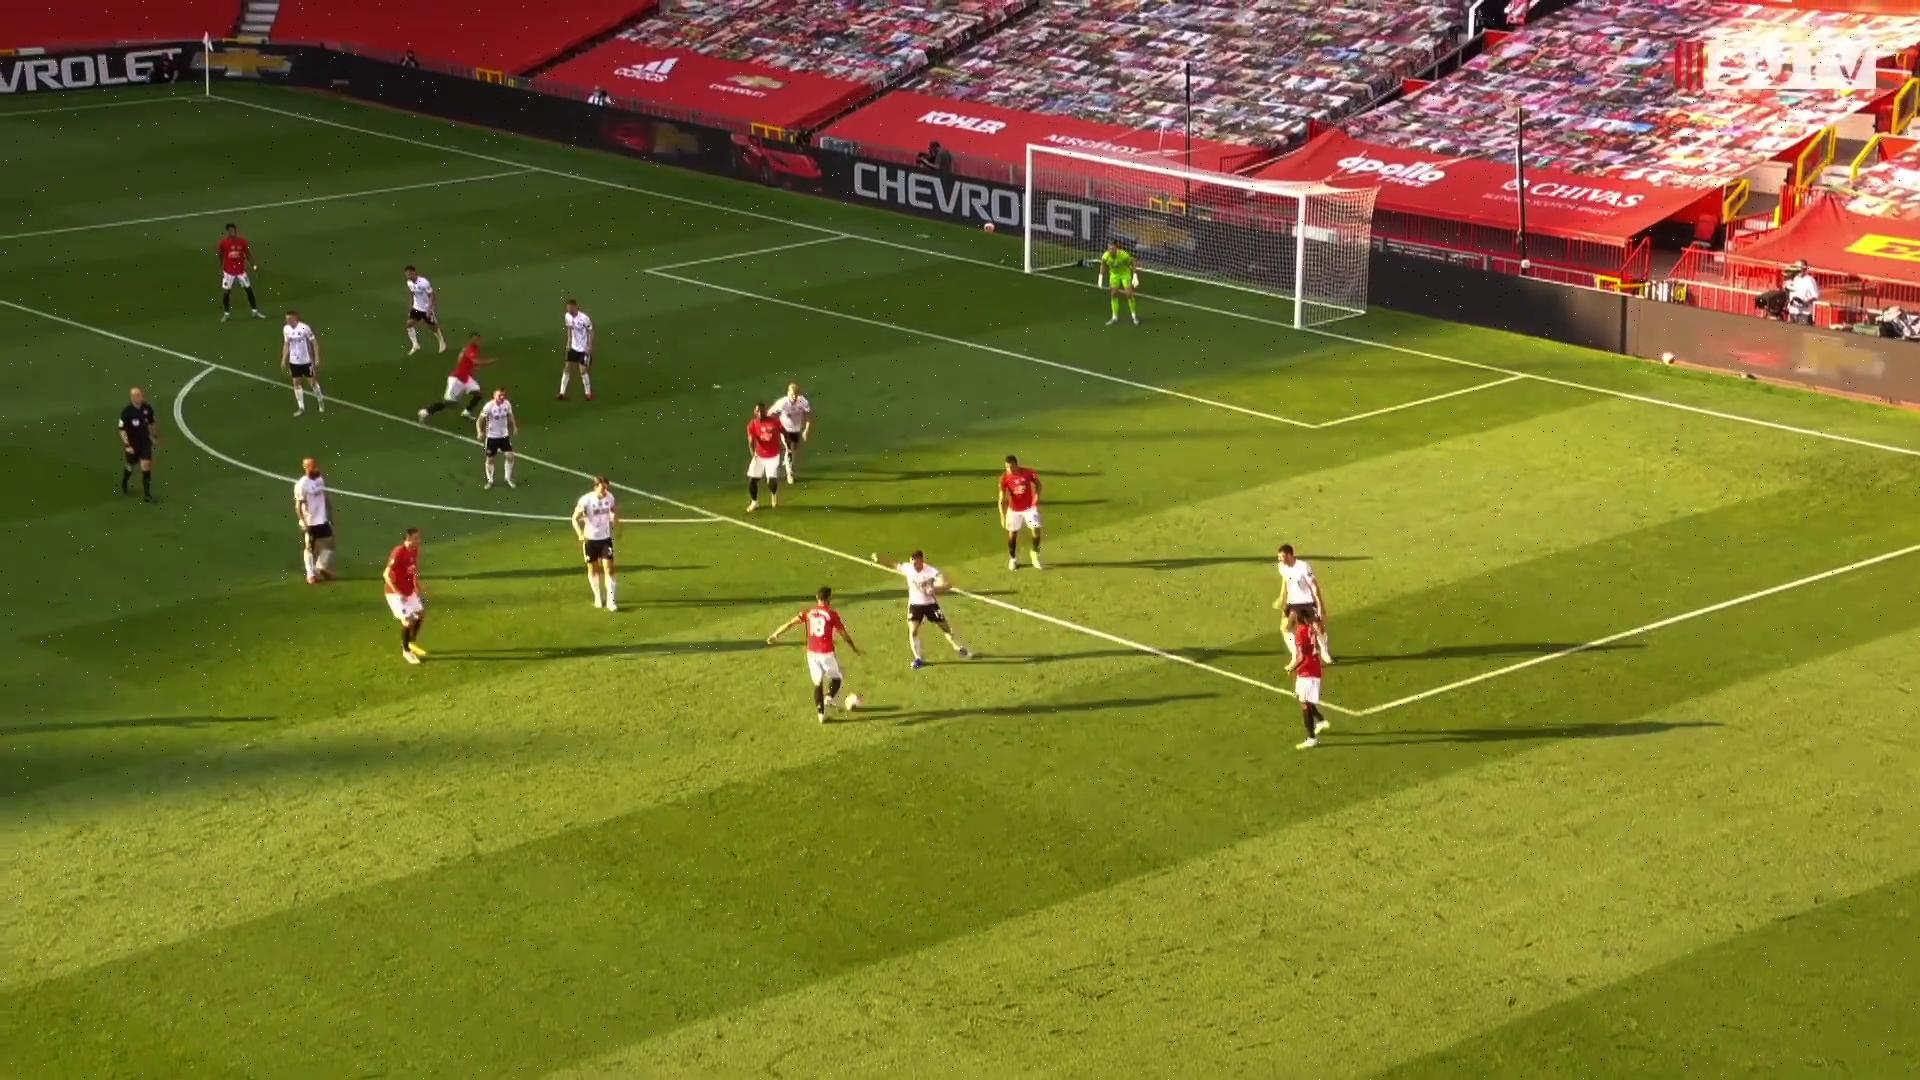ball: (844, 691, 865, 713)
